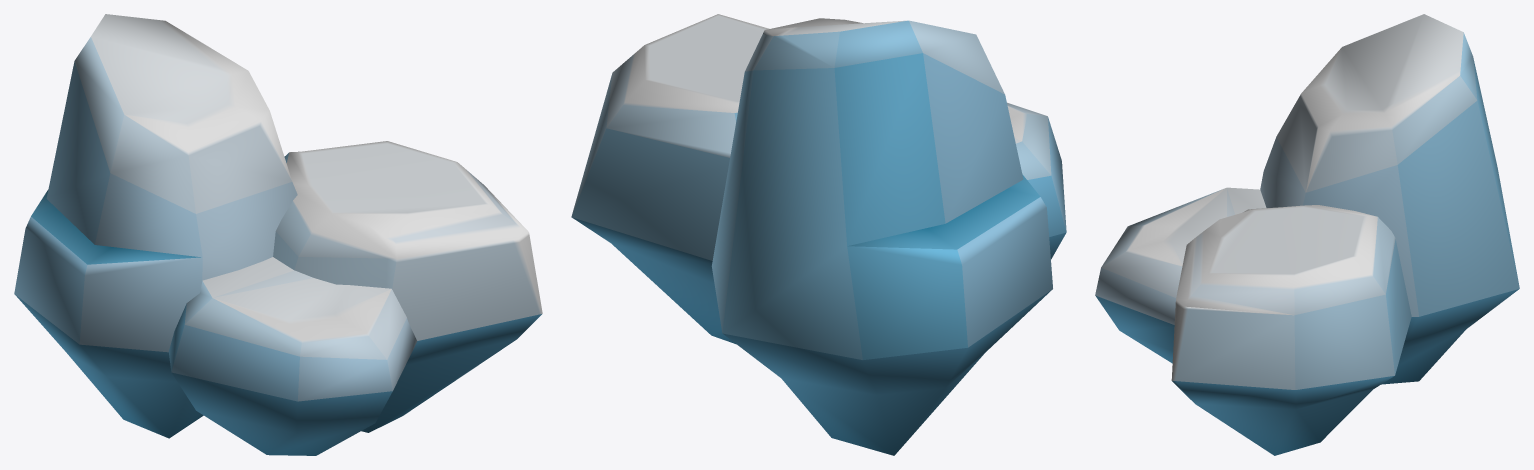
Rendered from IceSteps.glb.
The picture shows the model from 3 angles, left to right: view 1: azimuth 30°, elevation 25°; view 2: azimuth 150°, elevation 25°; view 3: azimuth 270°, elevation 25°; orthographic projection. The views are drawn at different scales.
Visible parts, largest first — view 1: IceSteps; view 2: IceSteps; view 3: IceSteps.
Part boxes in pixels (x1,y1,x2,y2): IceSteps: (14, 14, 542, 455); IceSteps: (571, 14, 1066, 455); IceSteps: (1095, 14, 1519, 455).
Bounding box in the file's own units: 4.46 × 4.05 × 4.5.
